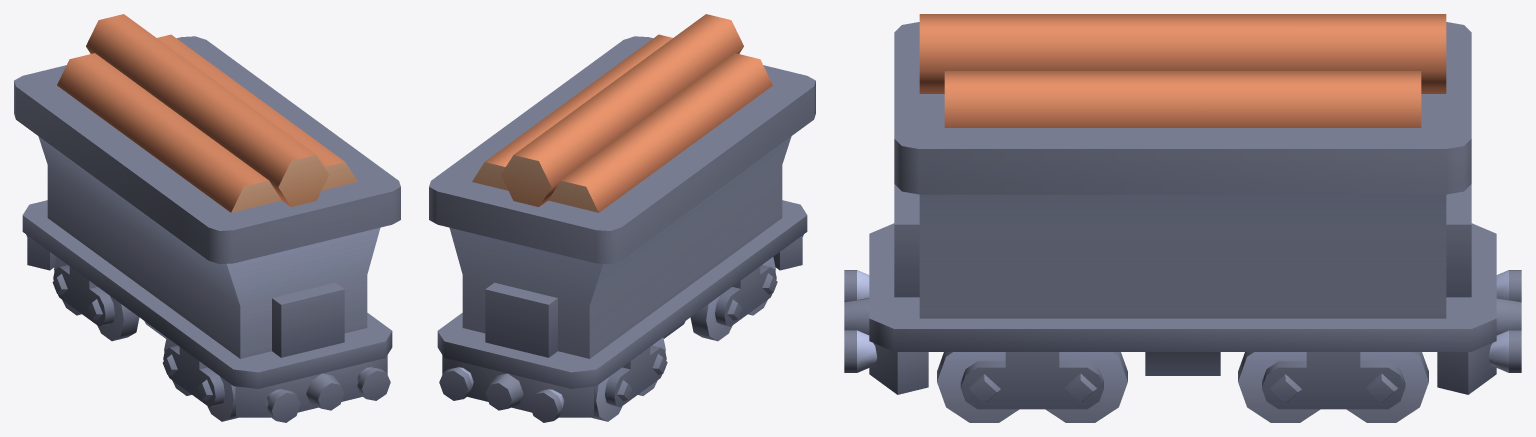
Rendered from kenney-train-train-carriage-wood.glb.
The picture shows the model from 3 angles, left to right: view 1: azimuth 30°, elevation 25°; view 2: azimuth 150°, elevation 25°; view 3: azimuth 270°, elevation 25°; orthographic projection. The views are drawn at different scales.
Parts seen in each view (by area): view 1: train-carriage-wood; view 2: train-carriage-wood; view 3: train-carriage-wood.
Boxes of the visible parts, <box> form: train-carriage-wood: <box>14,14,400,422</box>; train-carriage-wood: <box>429,14,815,422</box>; train-carriage-wood: <box>844,14,1521,422</box>.
Size of the model in its own units: 1.2 by 1.57 by 2.7.
1 material, 1 textured.
